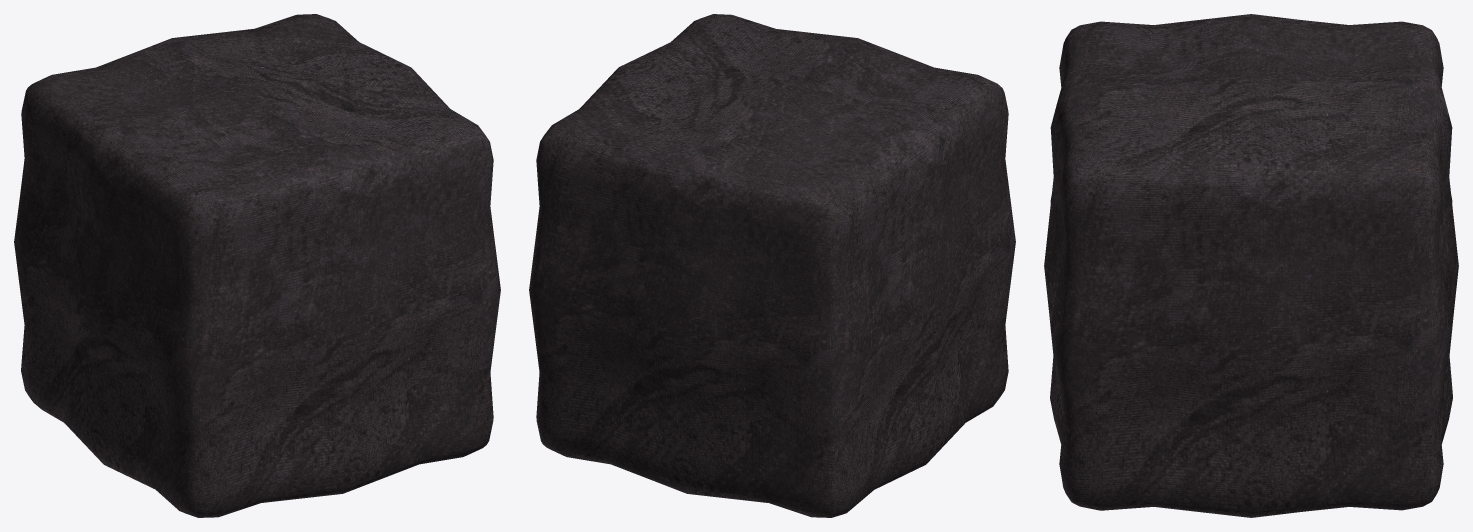
The model's file is ottoman.fbx.
3 views of the same model, side by side, from view 1: azimuth 30°, elevation 25°; view 2: azimuth 150°, elevation 25°; view 3: azimuth 270°, elevation 25° (orthographic). The views are drawn at different scales.
Visible parts, largest first — view 1: ottoman; view 2: ottoman; view 3: ottoman.
Boxes of the visible parts, x1,y1,x2,y2 form: ottoman: (14, 14, 500, 517); ottoman: (529, 14, 1015, 517); ottoman: (1044, 14, 1458, 517).
Size of the model in its own units: 47.85 by 47.85 by 47.85.
Materials: 1 (1 with a texture image).
